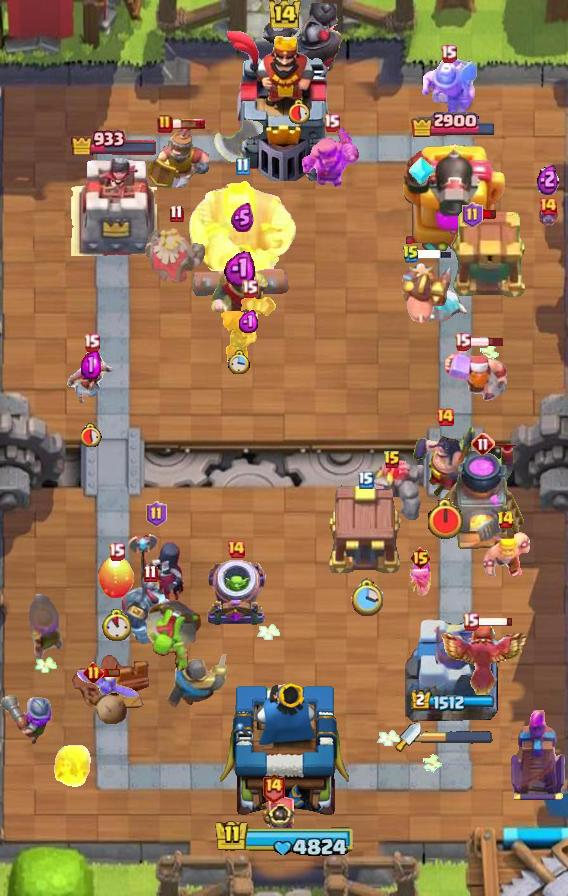axe: (214, 117, 270, 173)
bar: (468, 336, 505, 348), (417, 248, 453, 260), (170, 118, 206, 130), (477, 616, 514, 627), (101, 667, 121, 678), (481, 209, 498, 220)
bar-level: (261, 772, 286, 803), (471, 432, 495, 456), (409, 546, 432, 570), (146, 501, 167, 527), (462, 202, 483, 228), (83, 662, 104, 683), (226, 539, 246, 559), (435, 407, 455, 427), (538, 196, 558, 216), (496, 510, 515, 530), (383, 450, 401, 470), (402, 244, 420, 264), (462, 612, 479, 631), (108, 542, 125, 561), (83, 333, 100, 352), (454, 332, 471, 351), (241, 279, 258, 298), (323, 113, 340, 132), (440, 44, 457, 63), (157, 114, 173, 134), (358, 471, 374, 489), (143, 564, 158, 583), (169, 204, 184, 223), (235, 157, 250, 176)
barbarian: (473, 531, 537, 577)
barbarian-evolution: (299, 126, 363, 194)
bat: (536, 204, 560, 228)
bat-evolution: (73, 670, 139, 704)
cannoneer-tower: (399, 138, 507, 256)
clock: (426, 498, 465, 541), (350, 578, 383, 618), (102, 609, 131, 641), (289, 99, 311, 124), (228, 350, 250, 374), (81, 423, 102, 447)
dagger-duchess-tower: (405, 611, 501, 731)
dagger-duchess-tower-bar: (421, 730, 493, 744)
elixir: (224, 249, 255, 286), (537, 162, 559, 195), (231, 203, 254, 232), (81, 351, 101, 379), (238, 310, 260, 334)
executioner: (411, 423, 479, 499)
goblin-ball: (144, 595, 204, 671)
golemite: (359, 459, 425, 521)
ice-spirit: (423, 288, 469, 323)
ice-spirit-evolution-symbol: (408, 155, 436, 187)
king-tower: (220, 678, 349, 826), (223, 31, 345, 181)
king-tower-bar: (210, 818, 358, 860)
knight: (166, 654, 230, 709), (210, 268, 269, 324)
little-prince: (247, 796, 299, 846)
lumberjack: (442, 346, 510, 402)
mega-minion: (120, 575, 180, 645)
miner: (417, 55, 479, 125)
mortar-evolution: (204, 558, 268, 628)
musketeer: (0, 693, 56, 749), (28, 593, 66, 659)
night-witch: (126, 531, 186, 605)
phoenix-egg: (96, 556, 136, 600)
princess: (65, 347, 117, 405)
queen-tower: (71, 156, 157, 256)
royal-ghost: (145, 223, 207, 283)
royal-recruit: (147, 121, 209, 197)
skeleton-evolution: (406, 562, 434, 598)
the-log: (181, 265, 289, 301)
tower-bar: (70, 127, 159, 155), (410, 110, 497, 137), (411, 690, 496, 712)
valkyrie-evolution: (221, 295, 278, 374)
